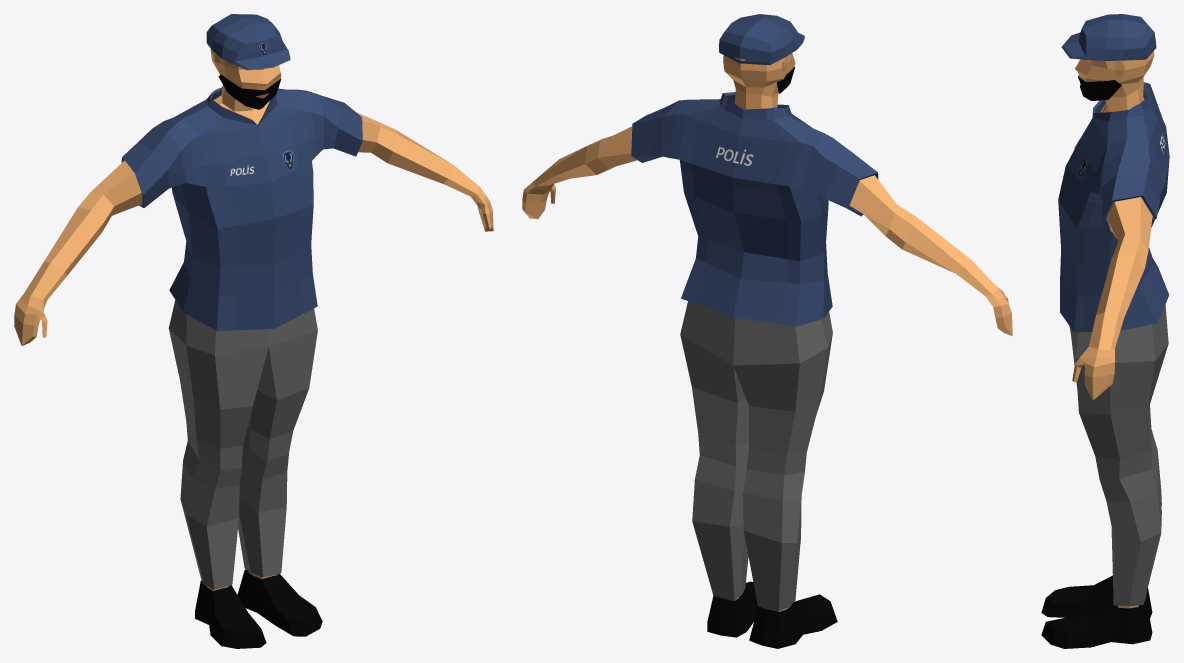
File: PoliceNpc.fbx
The picture shows the model from 3 angles, left to right: view 1: azimuth 30°, elevation 25°; view 2: azimuth 150°, elevation 25°; view 3: azimuth 270°, elevation 25°; orthographic projection. The views are drawn at different scales.
Parts seen in each view (by area): view 1: Police; view 2: Police; view 3: Police.
Boxes of the visible parts, x1=… form: Police: x1=14, y1=14, x2=493, y2=648; Police: x1=522, y1=14, x2=1012, y2=648; Police: x1=1041, y1=14, x2=1169, y2=648.
Size of the model in its own units: 537 by 647 by 124.
Materials: 12 (2 with a texture image).
